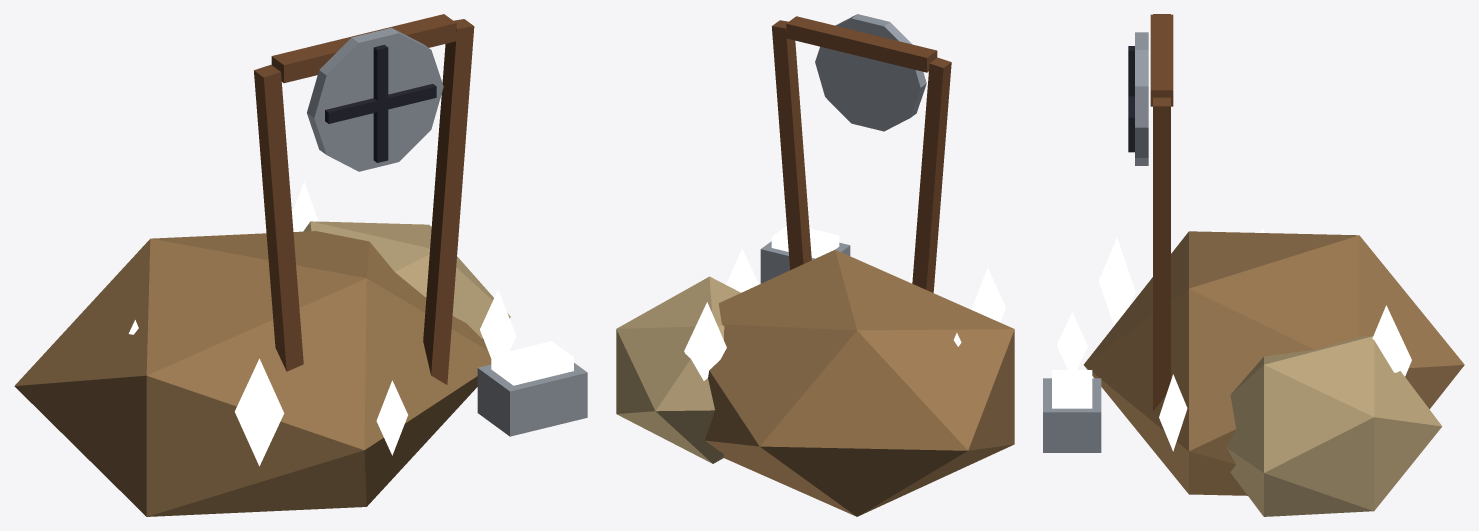
Rendered from mine_t2.glb.
The picture shows the model from 3 angles, left to right: view 1: azimuth 30°, elevation 25°; view 2: azimuth 150°, elevation 25°; view 3: azimuth 270°, elevation 25°; orthographic projection. The views are drawn at different scales.
Parts seen in each view (by area): view 1: body, part_rotor, glow; view 2: body, part_rotor, glow; view 3: body, glow, part_rotor.
Part boxes in pixels (bbox=[...]): body: bbox=[14, 14, 587, 516]; part_rotor: bbox=[307, 27, 443, 171]; glow: bbox=[128, 182, 573, 466]; body: bbox=[616, 16, 1014, 516]; part_rotor: bbox=[815, 14, 926, 131]; glow: bbox=[684, 226, 1005, 380]; body: bbox=[1043, 14, 1464, 516]; glow: bbox=[1052, 228, 1411, 451]; part_rotor: bbox=[1128, 32, 1148, 165].
Size of the model in its own units: 2.05 by 2.19 by 1.88.
